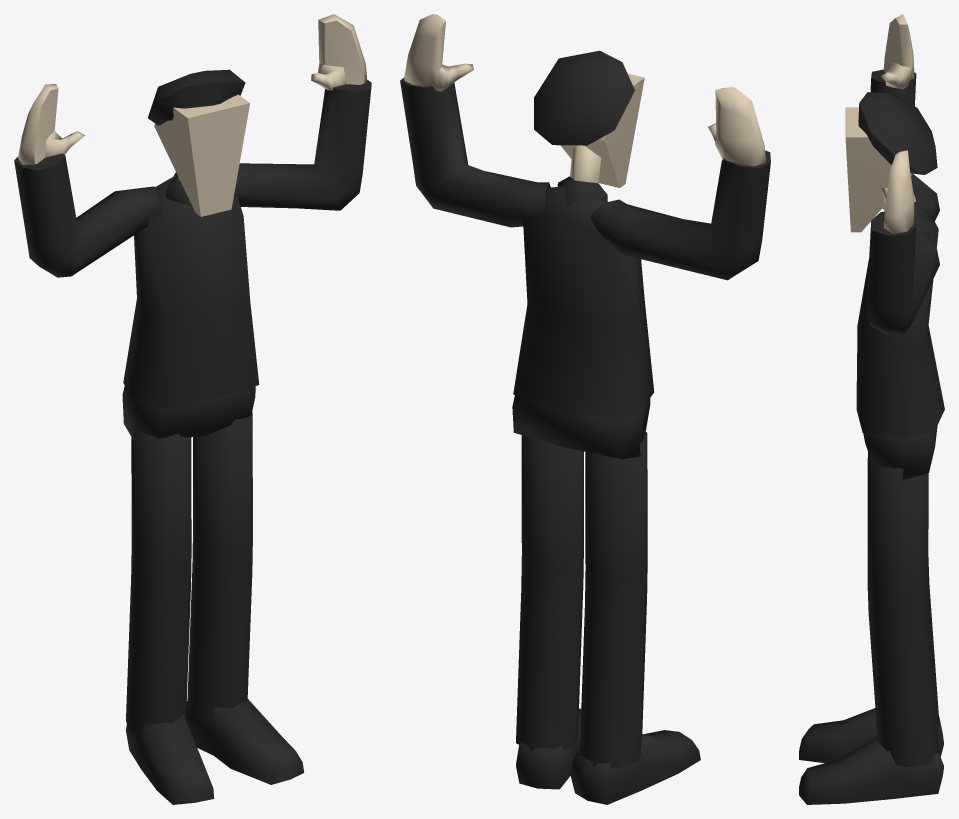
The model's file is mesh_CampPrisoner_a.fbx.
3 views of the same model, side by side, from view 1: azimuth 30°, elevation 25°; view 2: azimuth 150°, elevation 25°; view 3: azimuth 270°, elevation 25° (orthographic). The views are drawn at different scales.
Visible parts, largest first — view 1: PrisonerA; view 2: PrisonerA; view 3: PrisonerA.
Boxes of the visible parts, x1,y1,x2,y2 form: PrisonerA: [14, 14, 371, 804]; PrisonerA: [400, 14, 770, 804]; PrisonerA: [799, 14, 944, 804].
Size of the model in its own units: 52.54 by 101 by 19.42.
